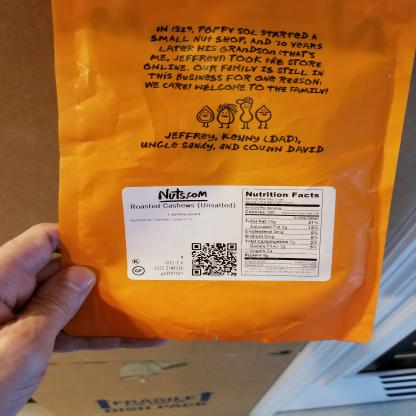qr: (189, 240, 238, 279)
